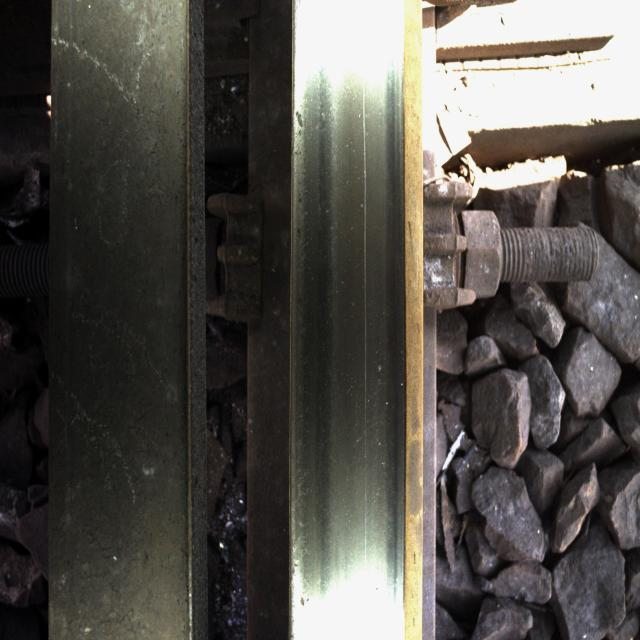normal: (300, 20, 390, 611)
